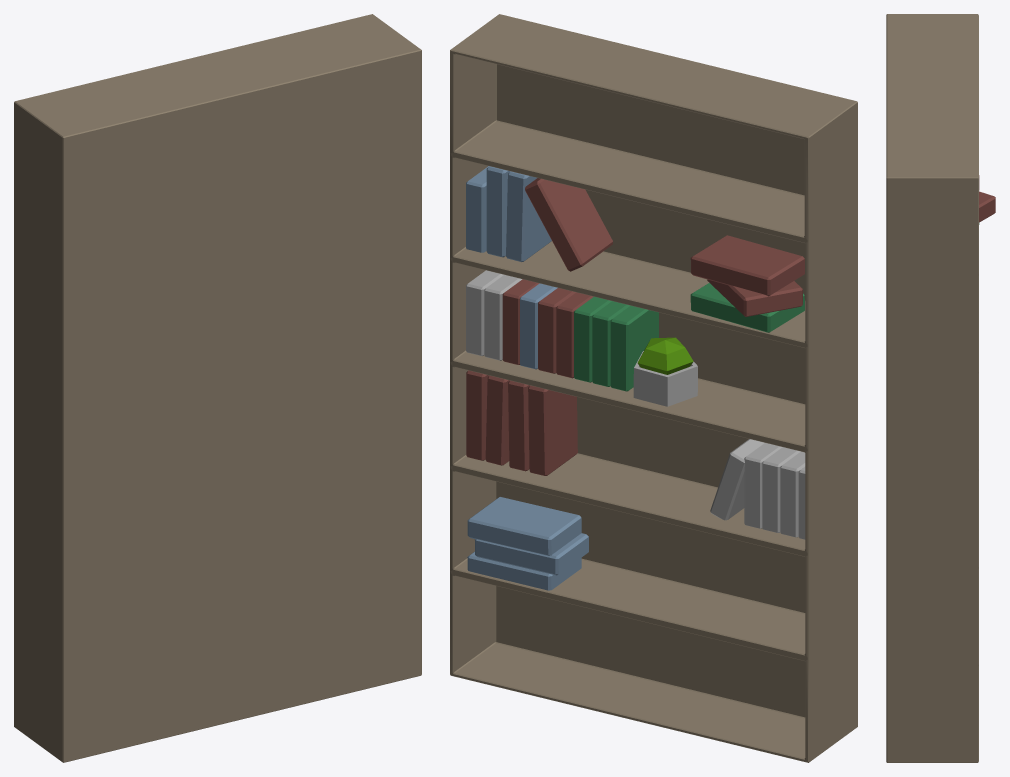
Rendered from bookshelf.fbx.
3 renders of one model, left to right at view 1: azimuth 30°, elevation 25°; view 2: azimuth 150°, elevation 25°; view 3: azimuth 270°, elevation 25°, orthographic. The views are drawn at different scales.
Visible parts, largest first — view 1: pCube27; view 2: pCube27, pCube31, pCube52, pCube53, pCube49, pCube38, pCube30, pCube51, pCylinder5, pCube55, pCube46, pCube45 (+18 smaller); view 3: pCube27, pCube54.
Boxes of the visible parts, <box> form: pCube27: <box>14,14,421,762</box>; pCube27: <box>450,14,857,762</box>; pCube31: <box>525,178,612,271</box>; pCube52: <box>467,497,581,555</box>; pCube53: <box>690,235,804,296</box>; pCube49: <box>528,385,577,475</box>; pCube38: <box>610,305,658,391</box>; pCube30: <box>506,171,551,261</box>; pCube51: <box>474,533,588,575</box>; pCylinder5: <box>633,351,697,406</box>; pCube55: <box>690,283,804,332</box>; pCube46: <box>485,375,509,465</box>; pCube45: <box>710,439,764,520</box>; pCube27: <box>886,14,978,762</box>; pCube54: <box>979,191,995,222</box>.
Bounding box in the file's own units: 5.4 × 9 × 1.52.
